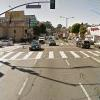Crosswalk: (6, 45, 100, 77)
